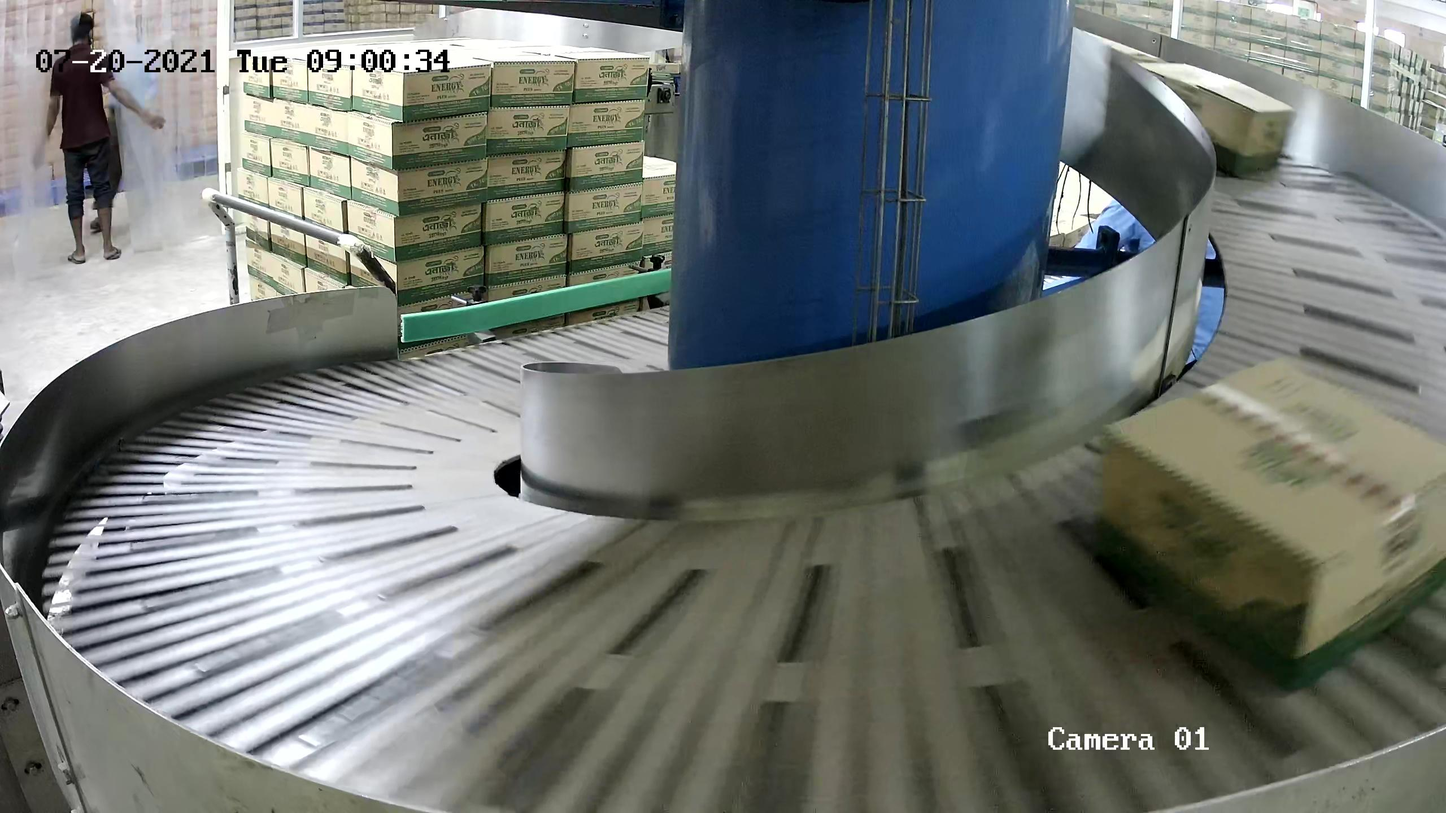Box: (1099, 354, 1446, 696), (1137, 60, 1297, 179)
